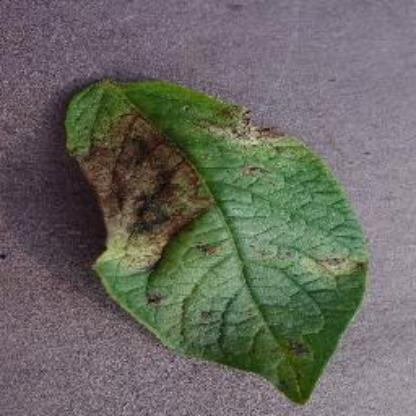Late-Blight: (57, 63, 375, 408)
